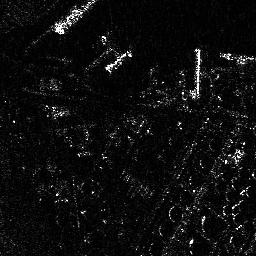ship: (51, 1, 92, 34), (104, 49, 132, 74), (219, 49, 254, 64)
